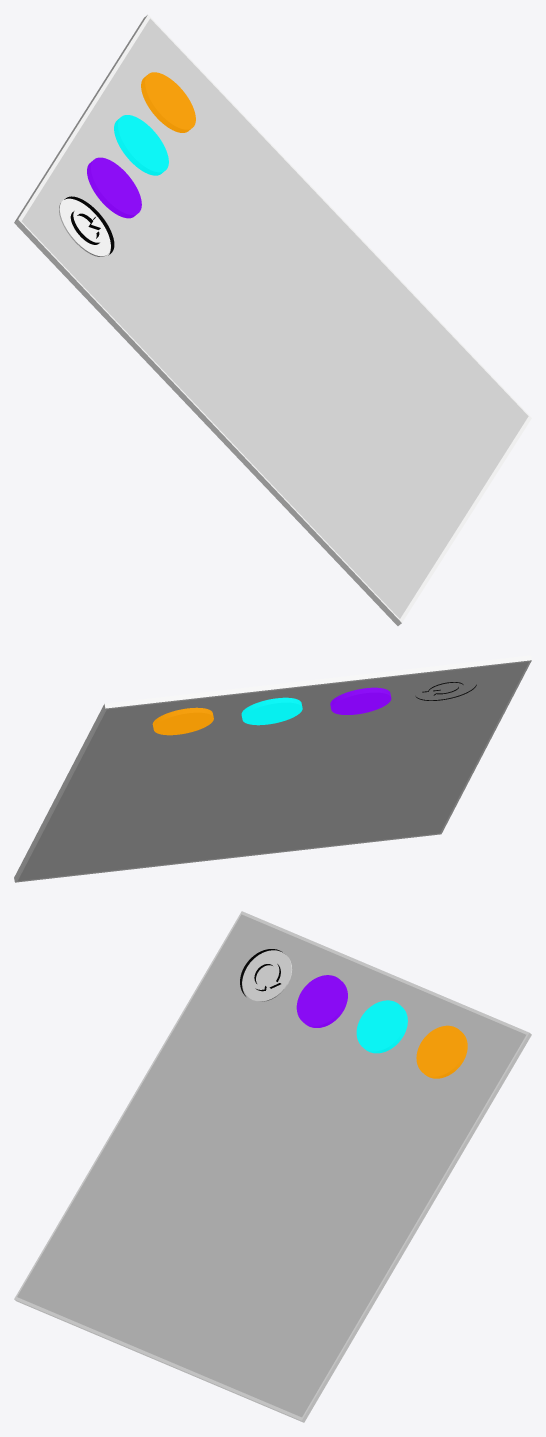
The model's file is console.glb.
3 views of the same model, one above another, from view 1: azimuth 30°, elevation 25°; view 2: azimuth 150°, elevation 25°; view 3: azimuth 270°, elevation 25° (orthographic). The views are drawn at different scales.
Parts seen in each view (by area): view 1: Console, Console Border, Colors, Reset; view 2: Console, Console Border, Colors; view 3: Console, Colors, Console Border, Reset.
Boxes of the visible parts, bbox=[...] form: Console: bbox=[21, 18, 528, 618]; Console Border: bbox=[14, 15, 531, 625]; Colors: bbox=[87, 72, 195, 218]; Reset: bbox=[59, 196, 114, 256]; Console: bbox=[18, 661, 528, 880]; Console Border: bbox=[14, 655, 531, 882]; Colors: bbox=[152, 687, 391, 735]; Console: bbox=[17, 914, 526, 1417]; Colors: bbox=[296, 975, 467, 1078]; Console Border: bbox=[14, 911, 531, 1422]; Reset: bbox=[240, 949, 292, 1001].
Bounding box in the file's own units: 0.3534 × 0.2221 × 0.3534.
Materials: 6 (1 with a texture image).
